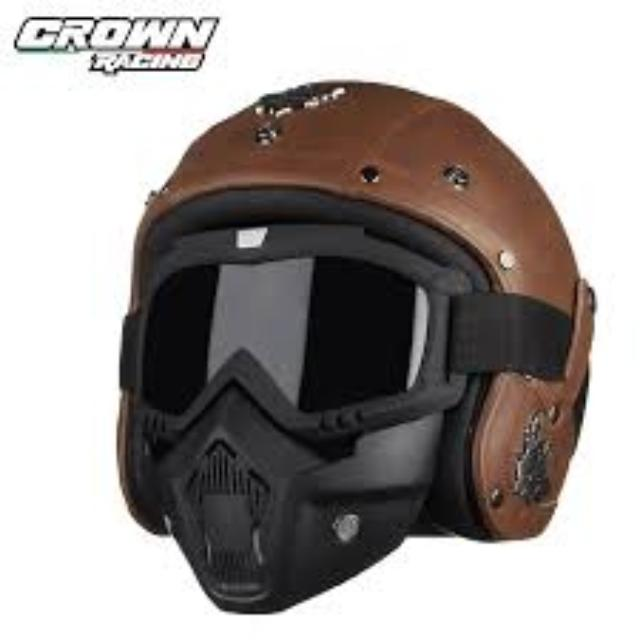motorcycle-helmets: (117, 82, 592, 612)
